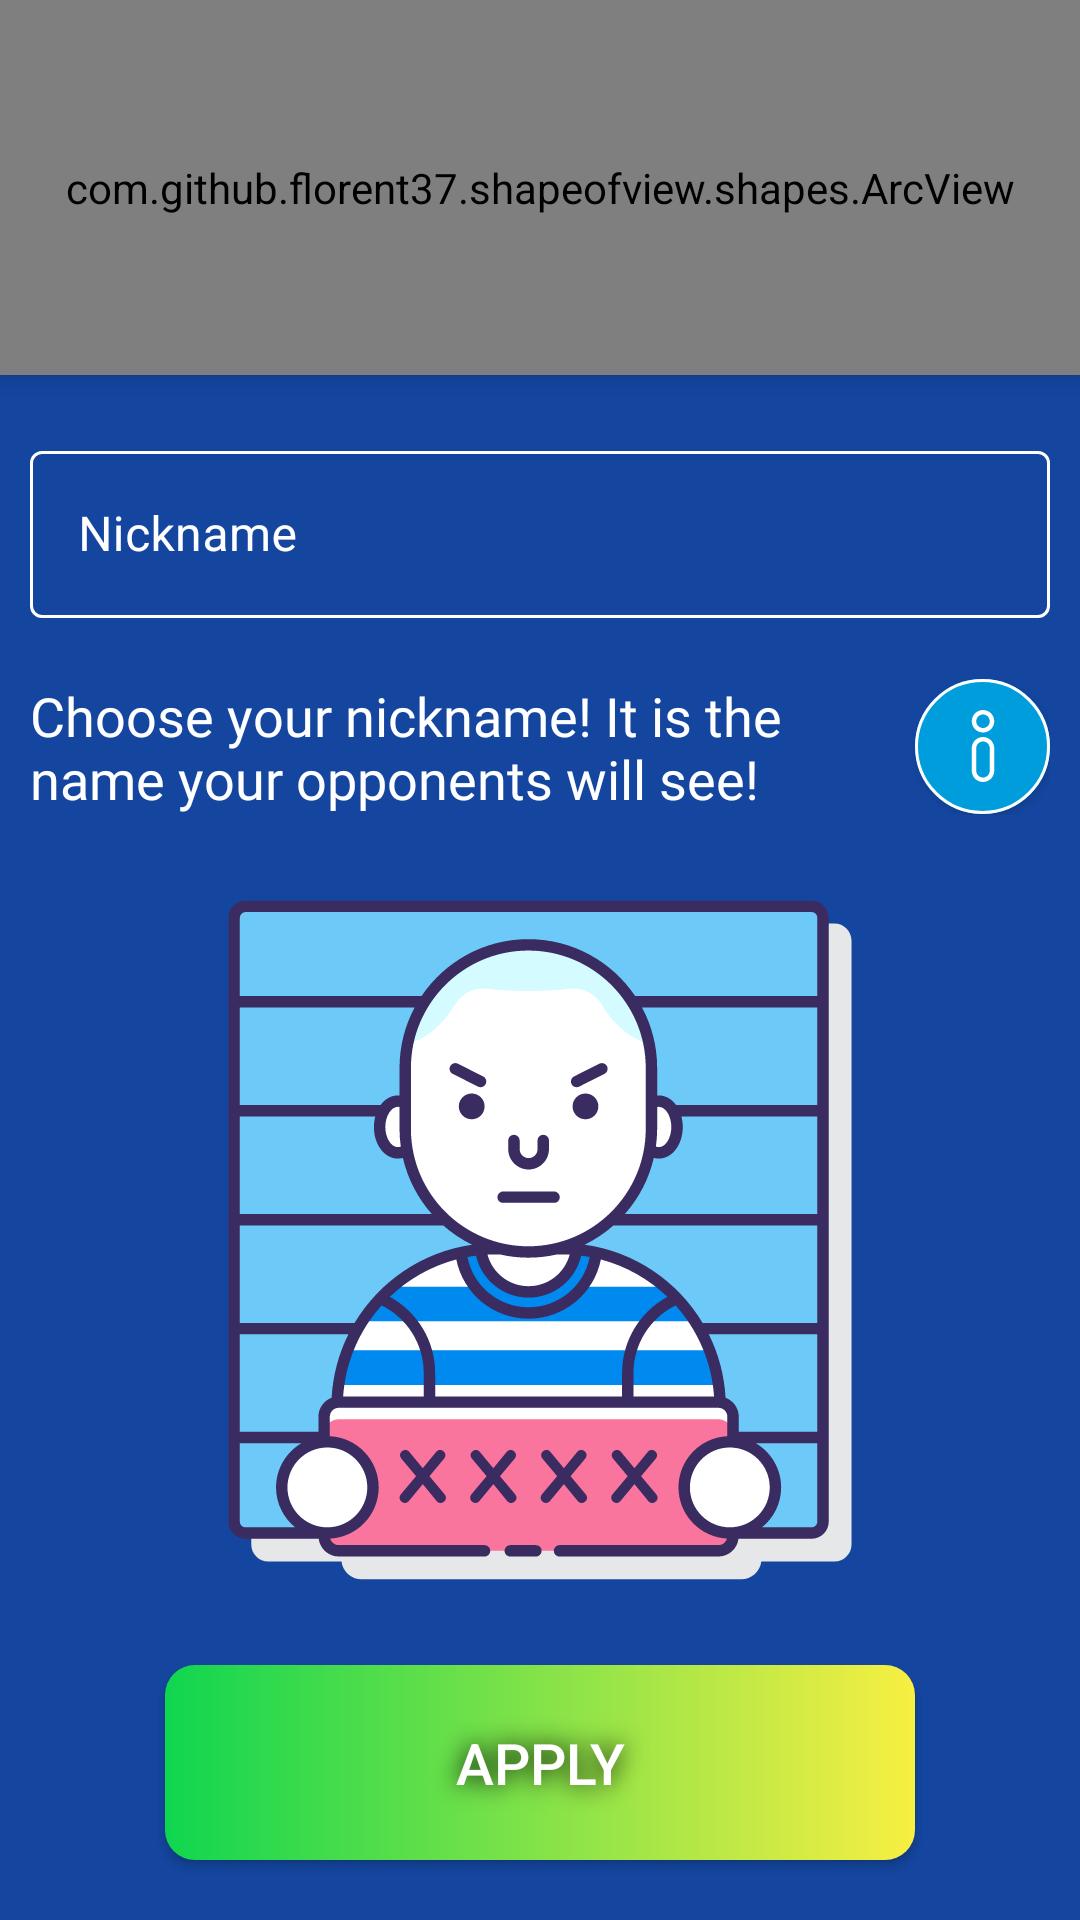

Where icons sit on this 1080x1920 app screen, as BBox(x1, y1, x2, y2):
info: BBox(915, 679, 1050, 814)
